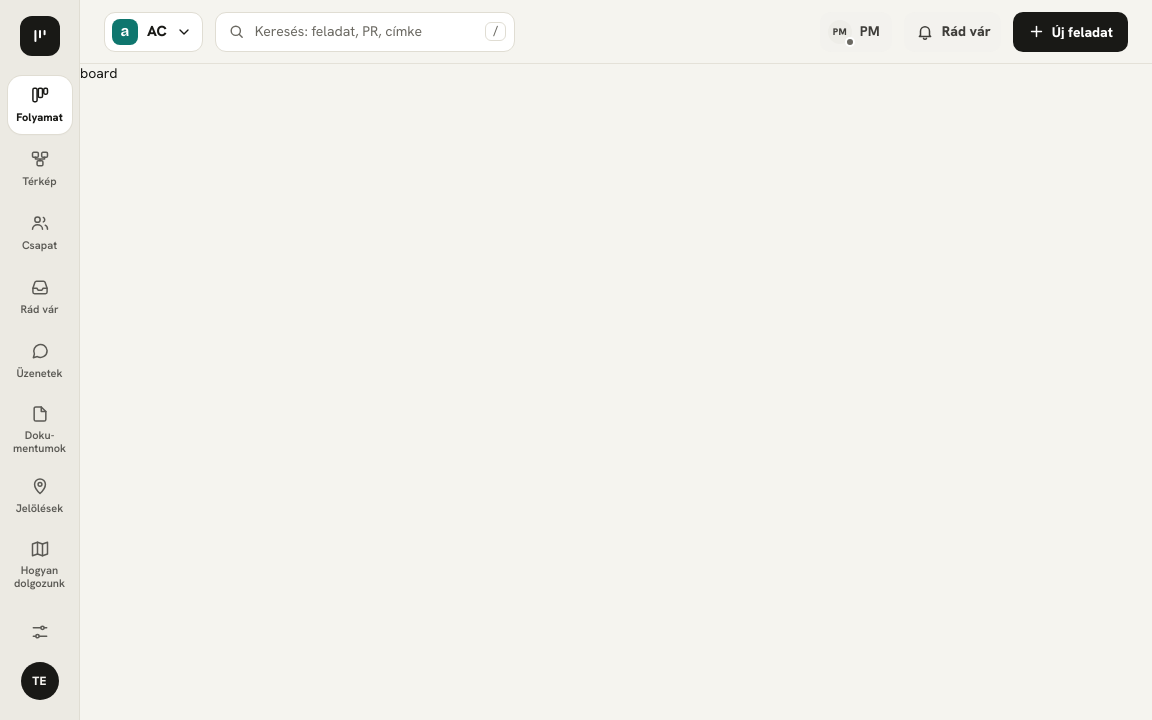
"Értesítések" in the account menu › gives a owner the item, and it leads to the notifications page
Click the button "TE".
click(40, 681)  # box [18,660,60,702]
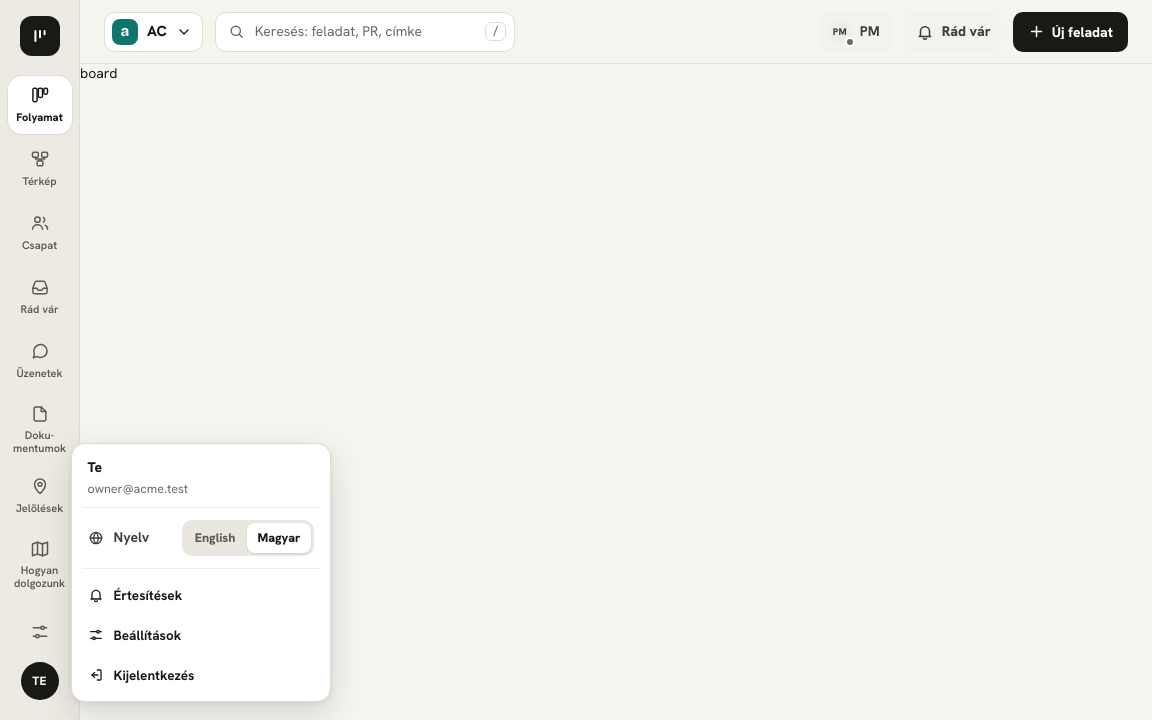
Click the link "Értesítések".
click(135, 594)  # box [88,586,182,604]
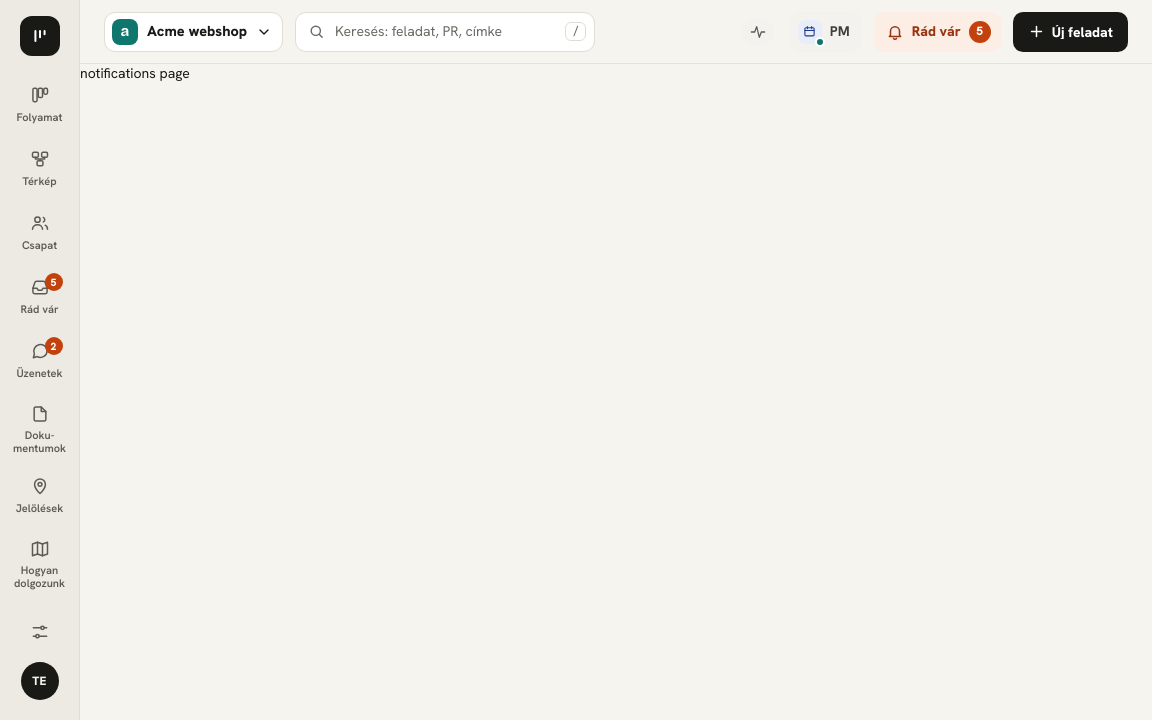
Check: the text "notifications page" is shown, box [80,64,190,82]
